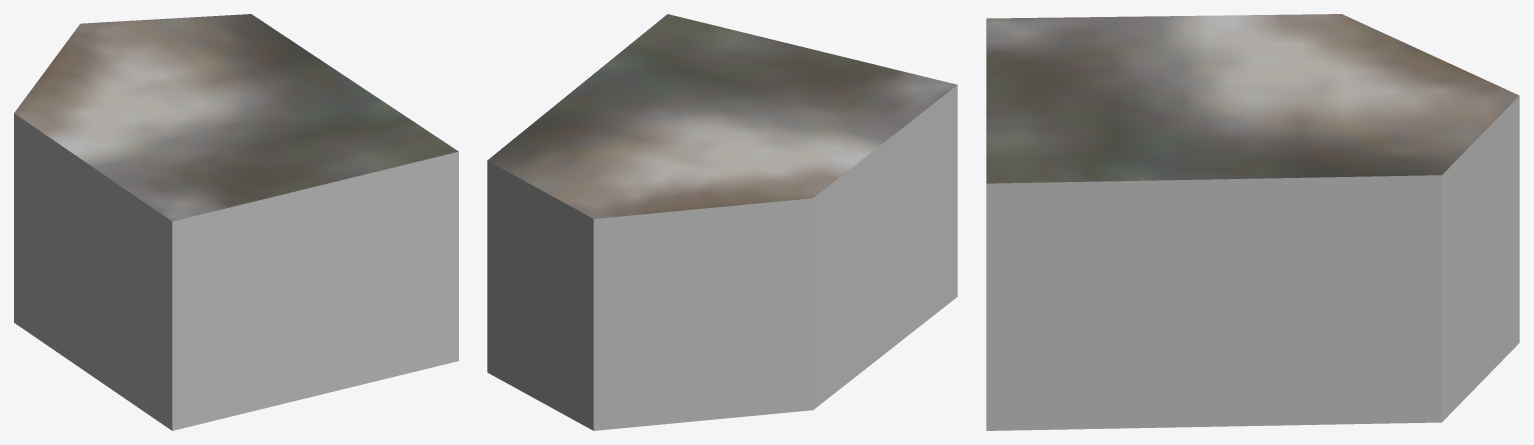
File: DEBW_0010007Txc8.gltf
3 views of the same model, side by side, from view 1: azimuth 30°, elevation 25°; view 2: azimuth 150°, elevation 25°; view 3: azimuth 270°, elevation 25° (orthographic). The views are drawn at different scales.
Visible parts, largest first — view 1: Z_UP; view 2: Z_UP; view 3: Z_UP.
Boxes of the visible parts, box(x1,y1,x2,y2) form: Z_UP: box(14, 14, 458, 430); Z_UP: box(487, 14, 957, 430); Z_UP: box(986, 14, 1519, 430).
Bounding box in the file's own units: 3.41 × 2.32 × 4.53.
2 materials, 1 textured.
